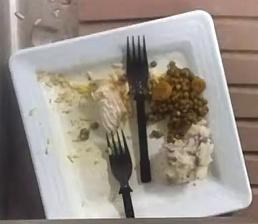lentils: (150, 61, 208, 142)
mashed_potato: (165, 119, 214, 184)
